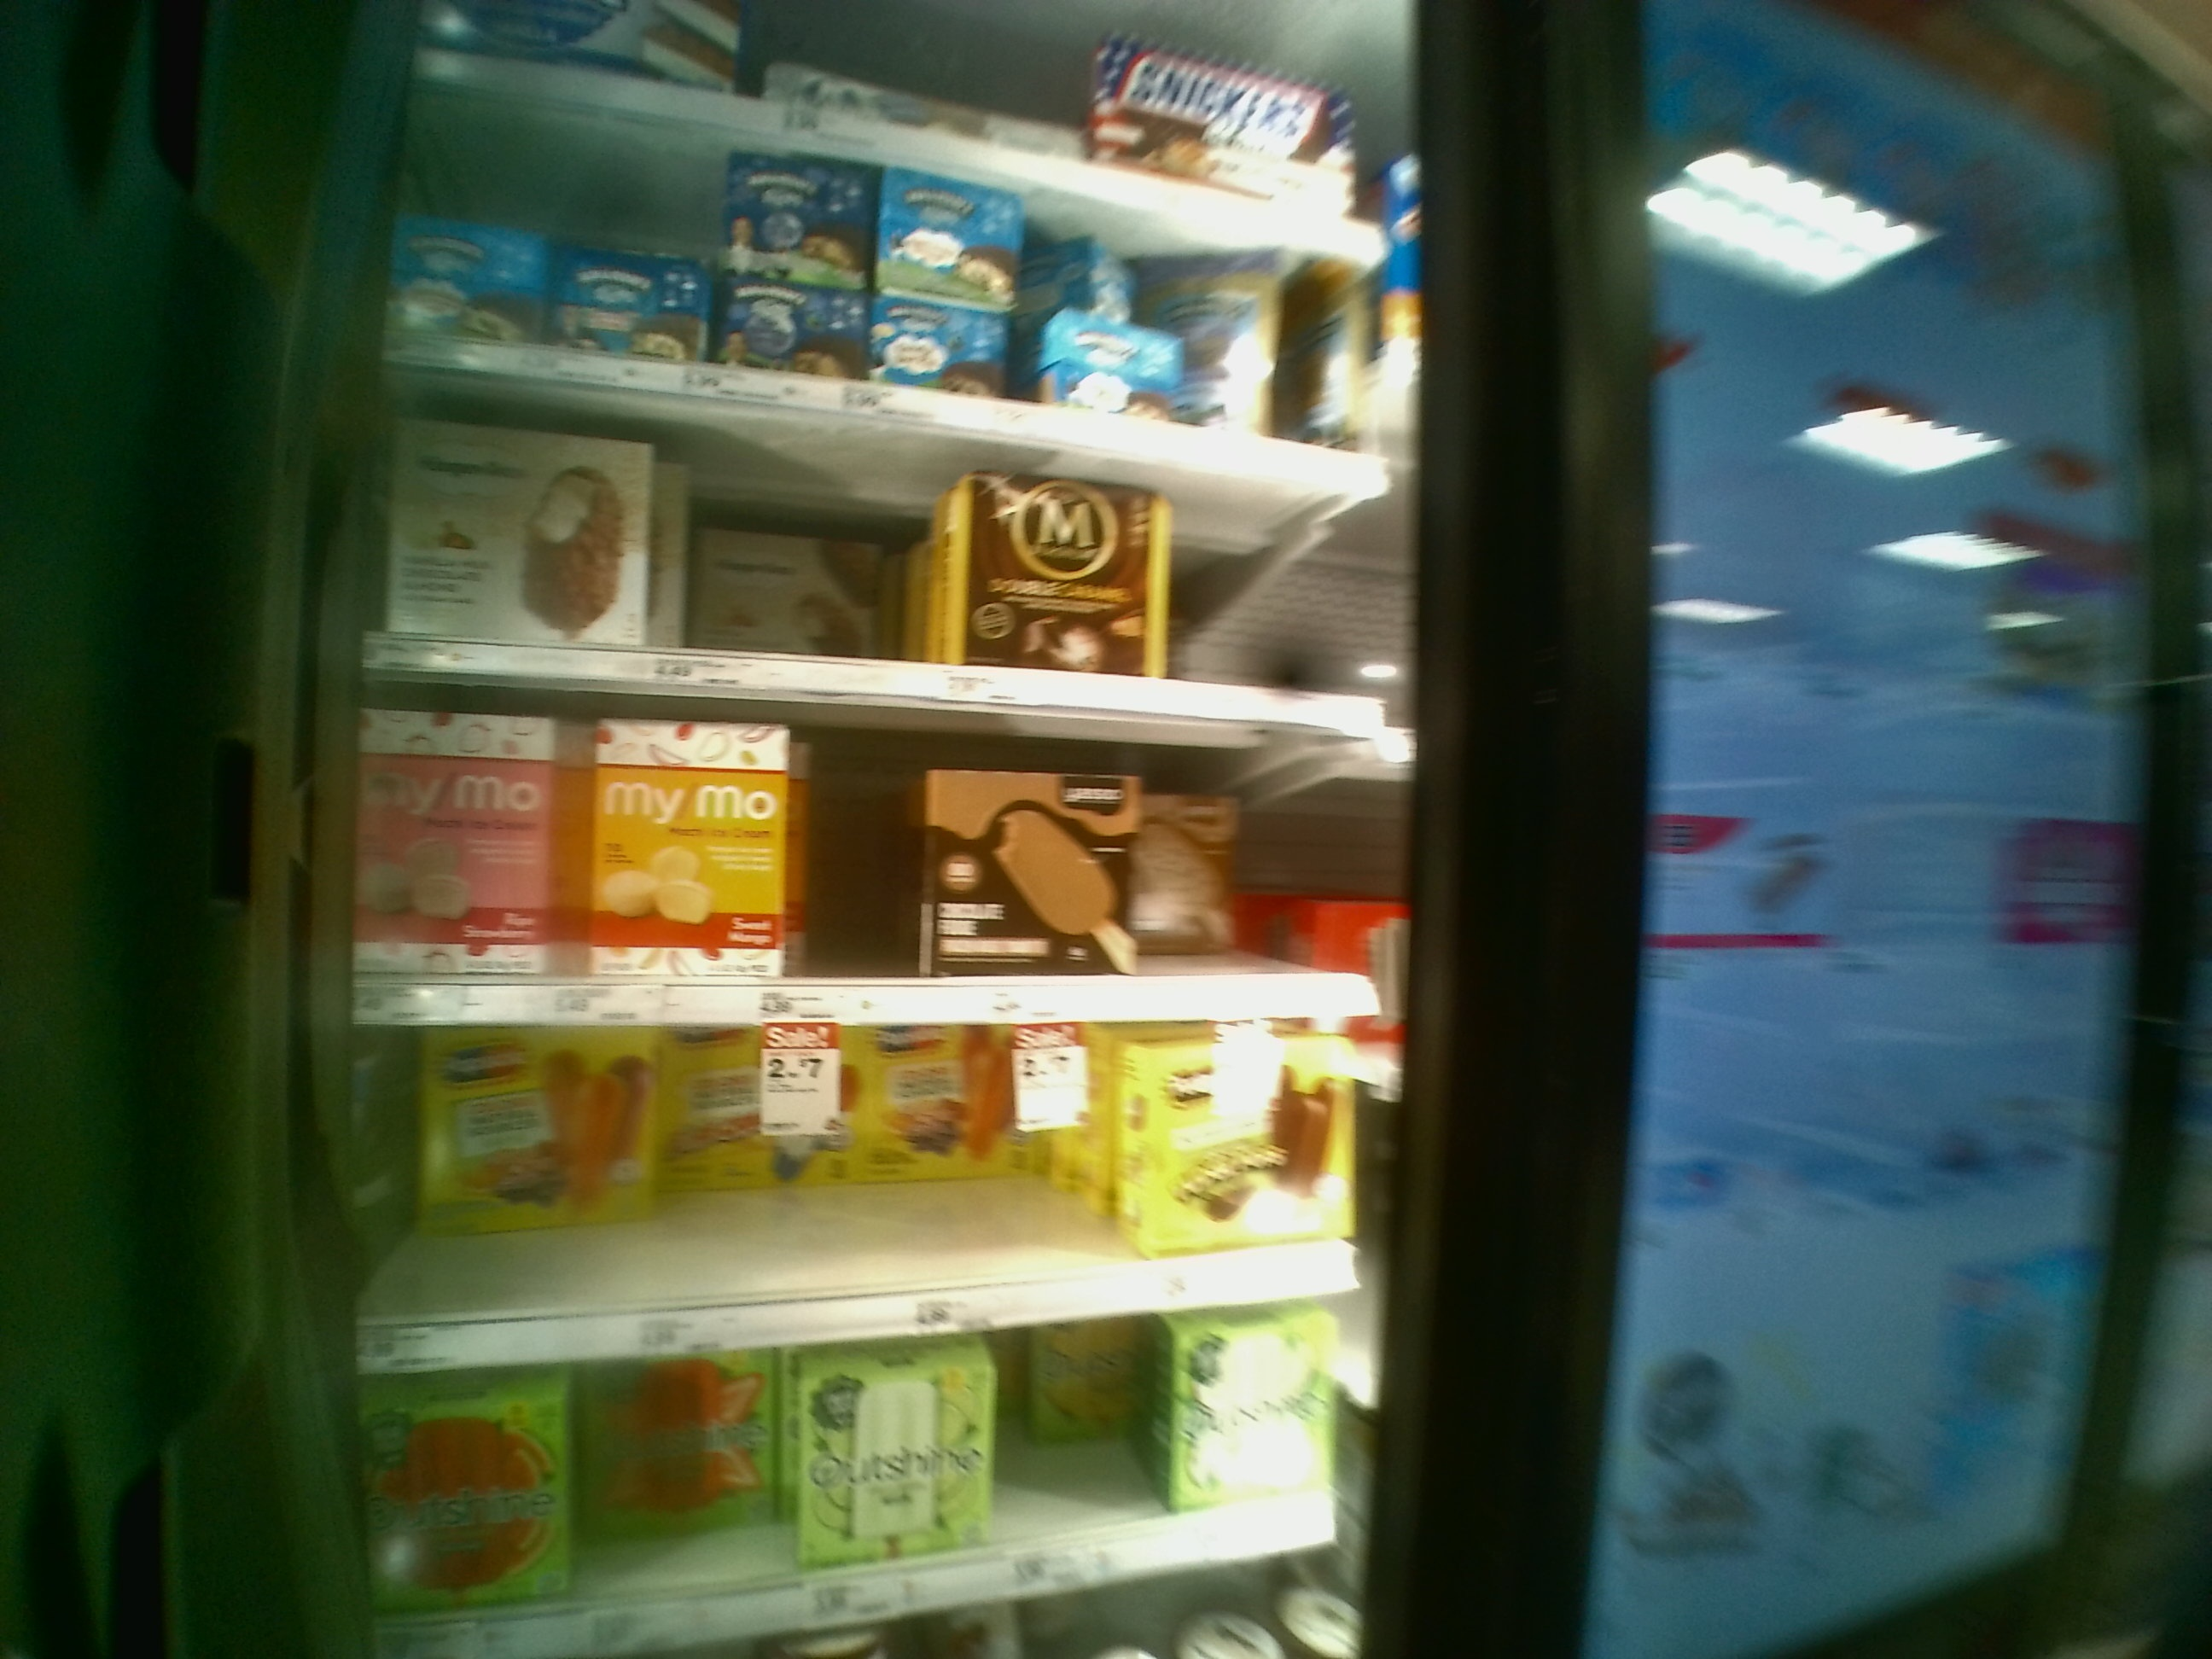shelf: (371, 355, 1390, 737), (350, 666, 1390, 1014), (354, 1018, 1371, 1373)
